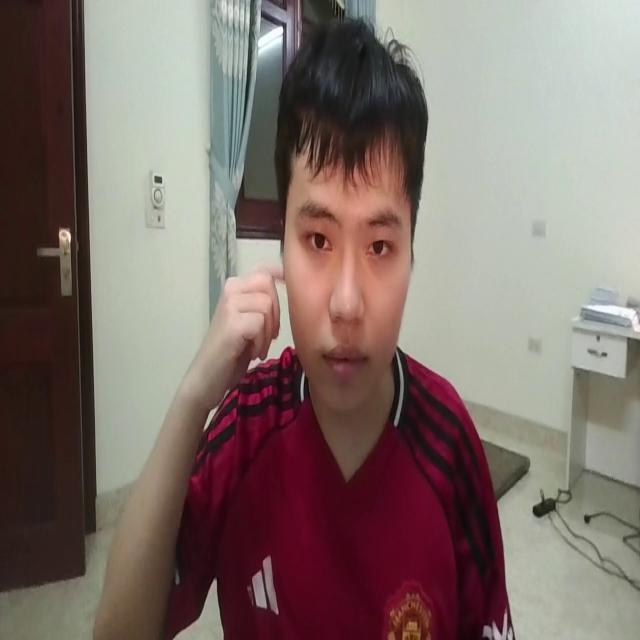student: (101, 19, 512, 640)
